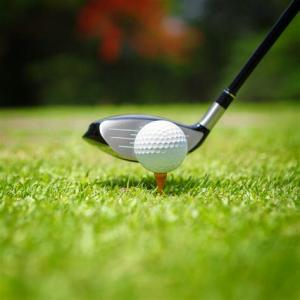Golf: (134, 119, 188, 173)
